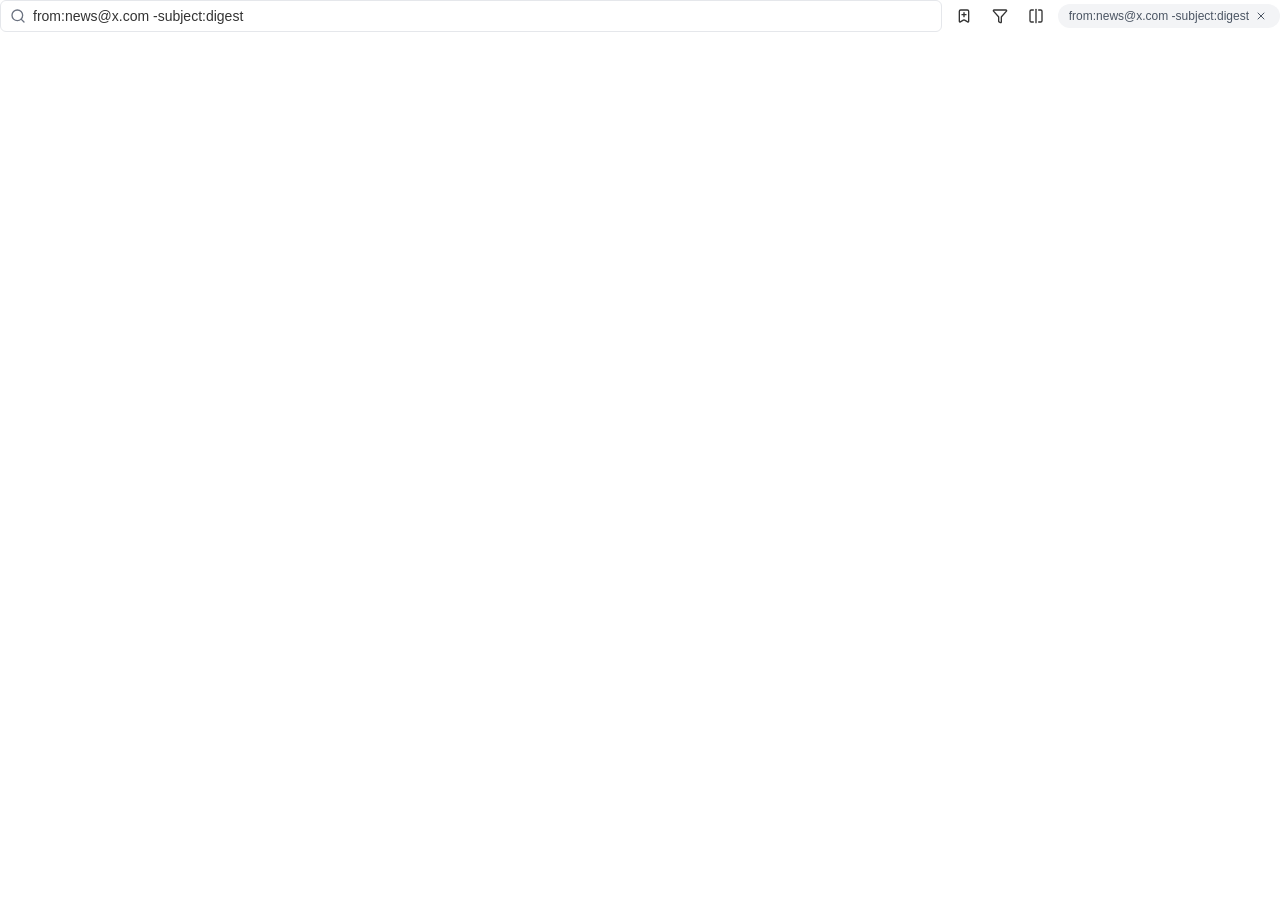
Test: CreateFilterButton › opens the rule dialog with the active query prefilled
Click the button with test id "create-filter-button" at (1000, 16), box top-left (986, 2), bottom-right (1014, 30)
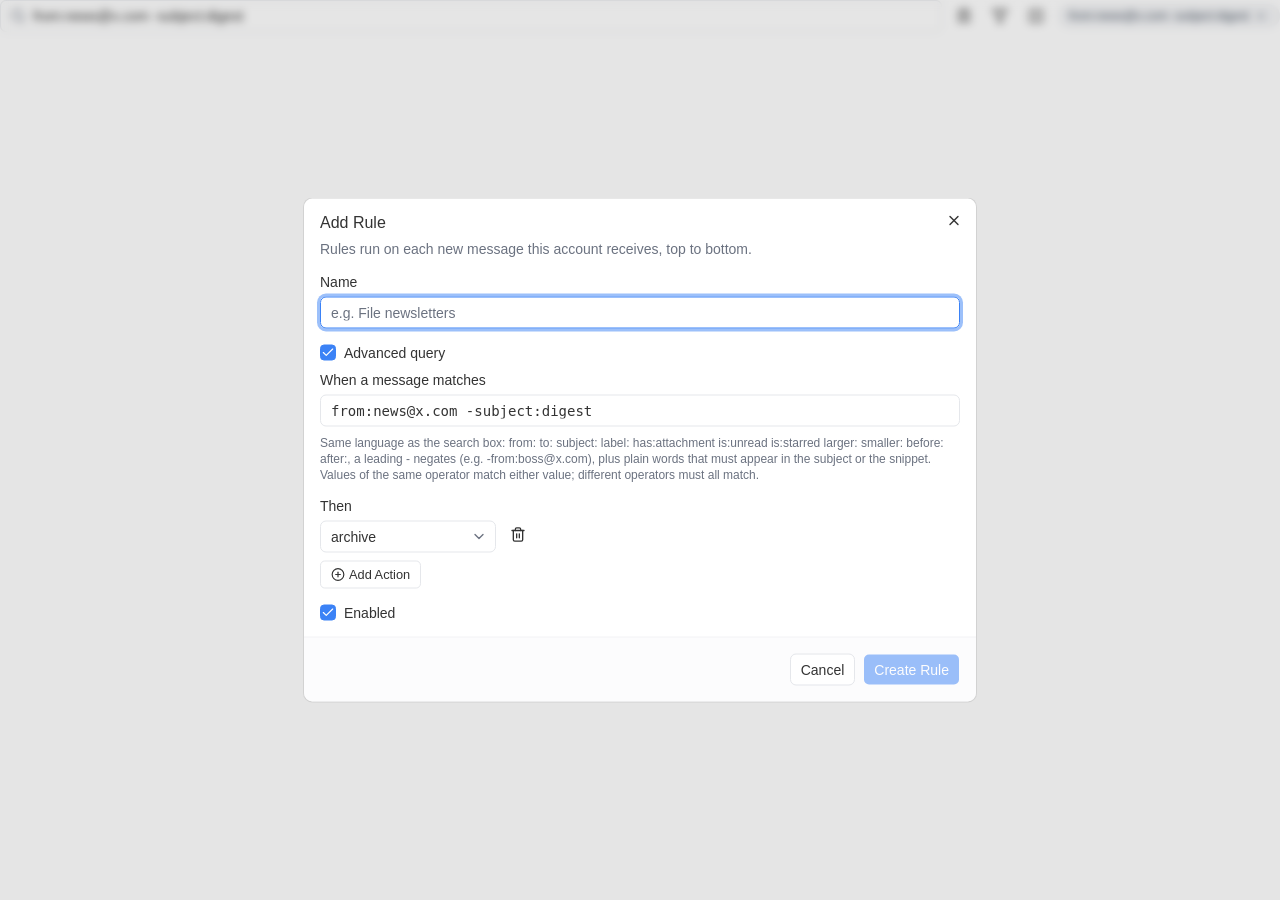
Now the field labelled "When a message matches" holds "from:news@x.com -subject:digest", box top-left (320, 394), bottom-right (960, 426)
Now the dialog shows "Add Rule", box top-left (320, 214), bottom-right (386, 230)
